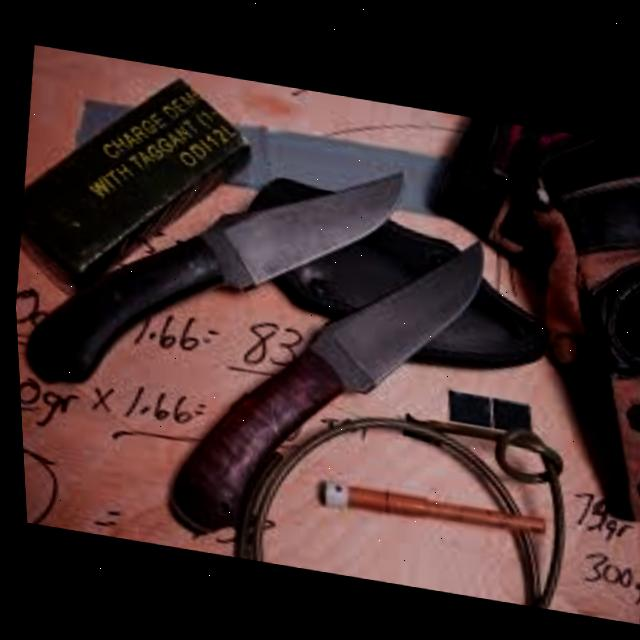Knife: (146, 187, 496, 574), (8, 107, 413, 435)
